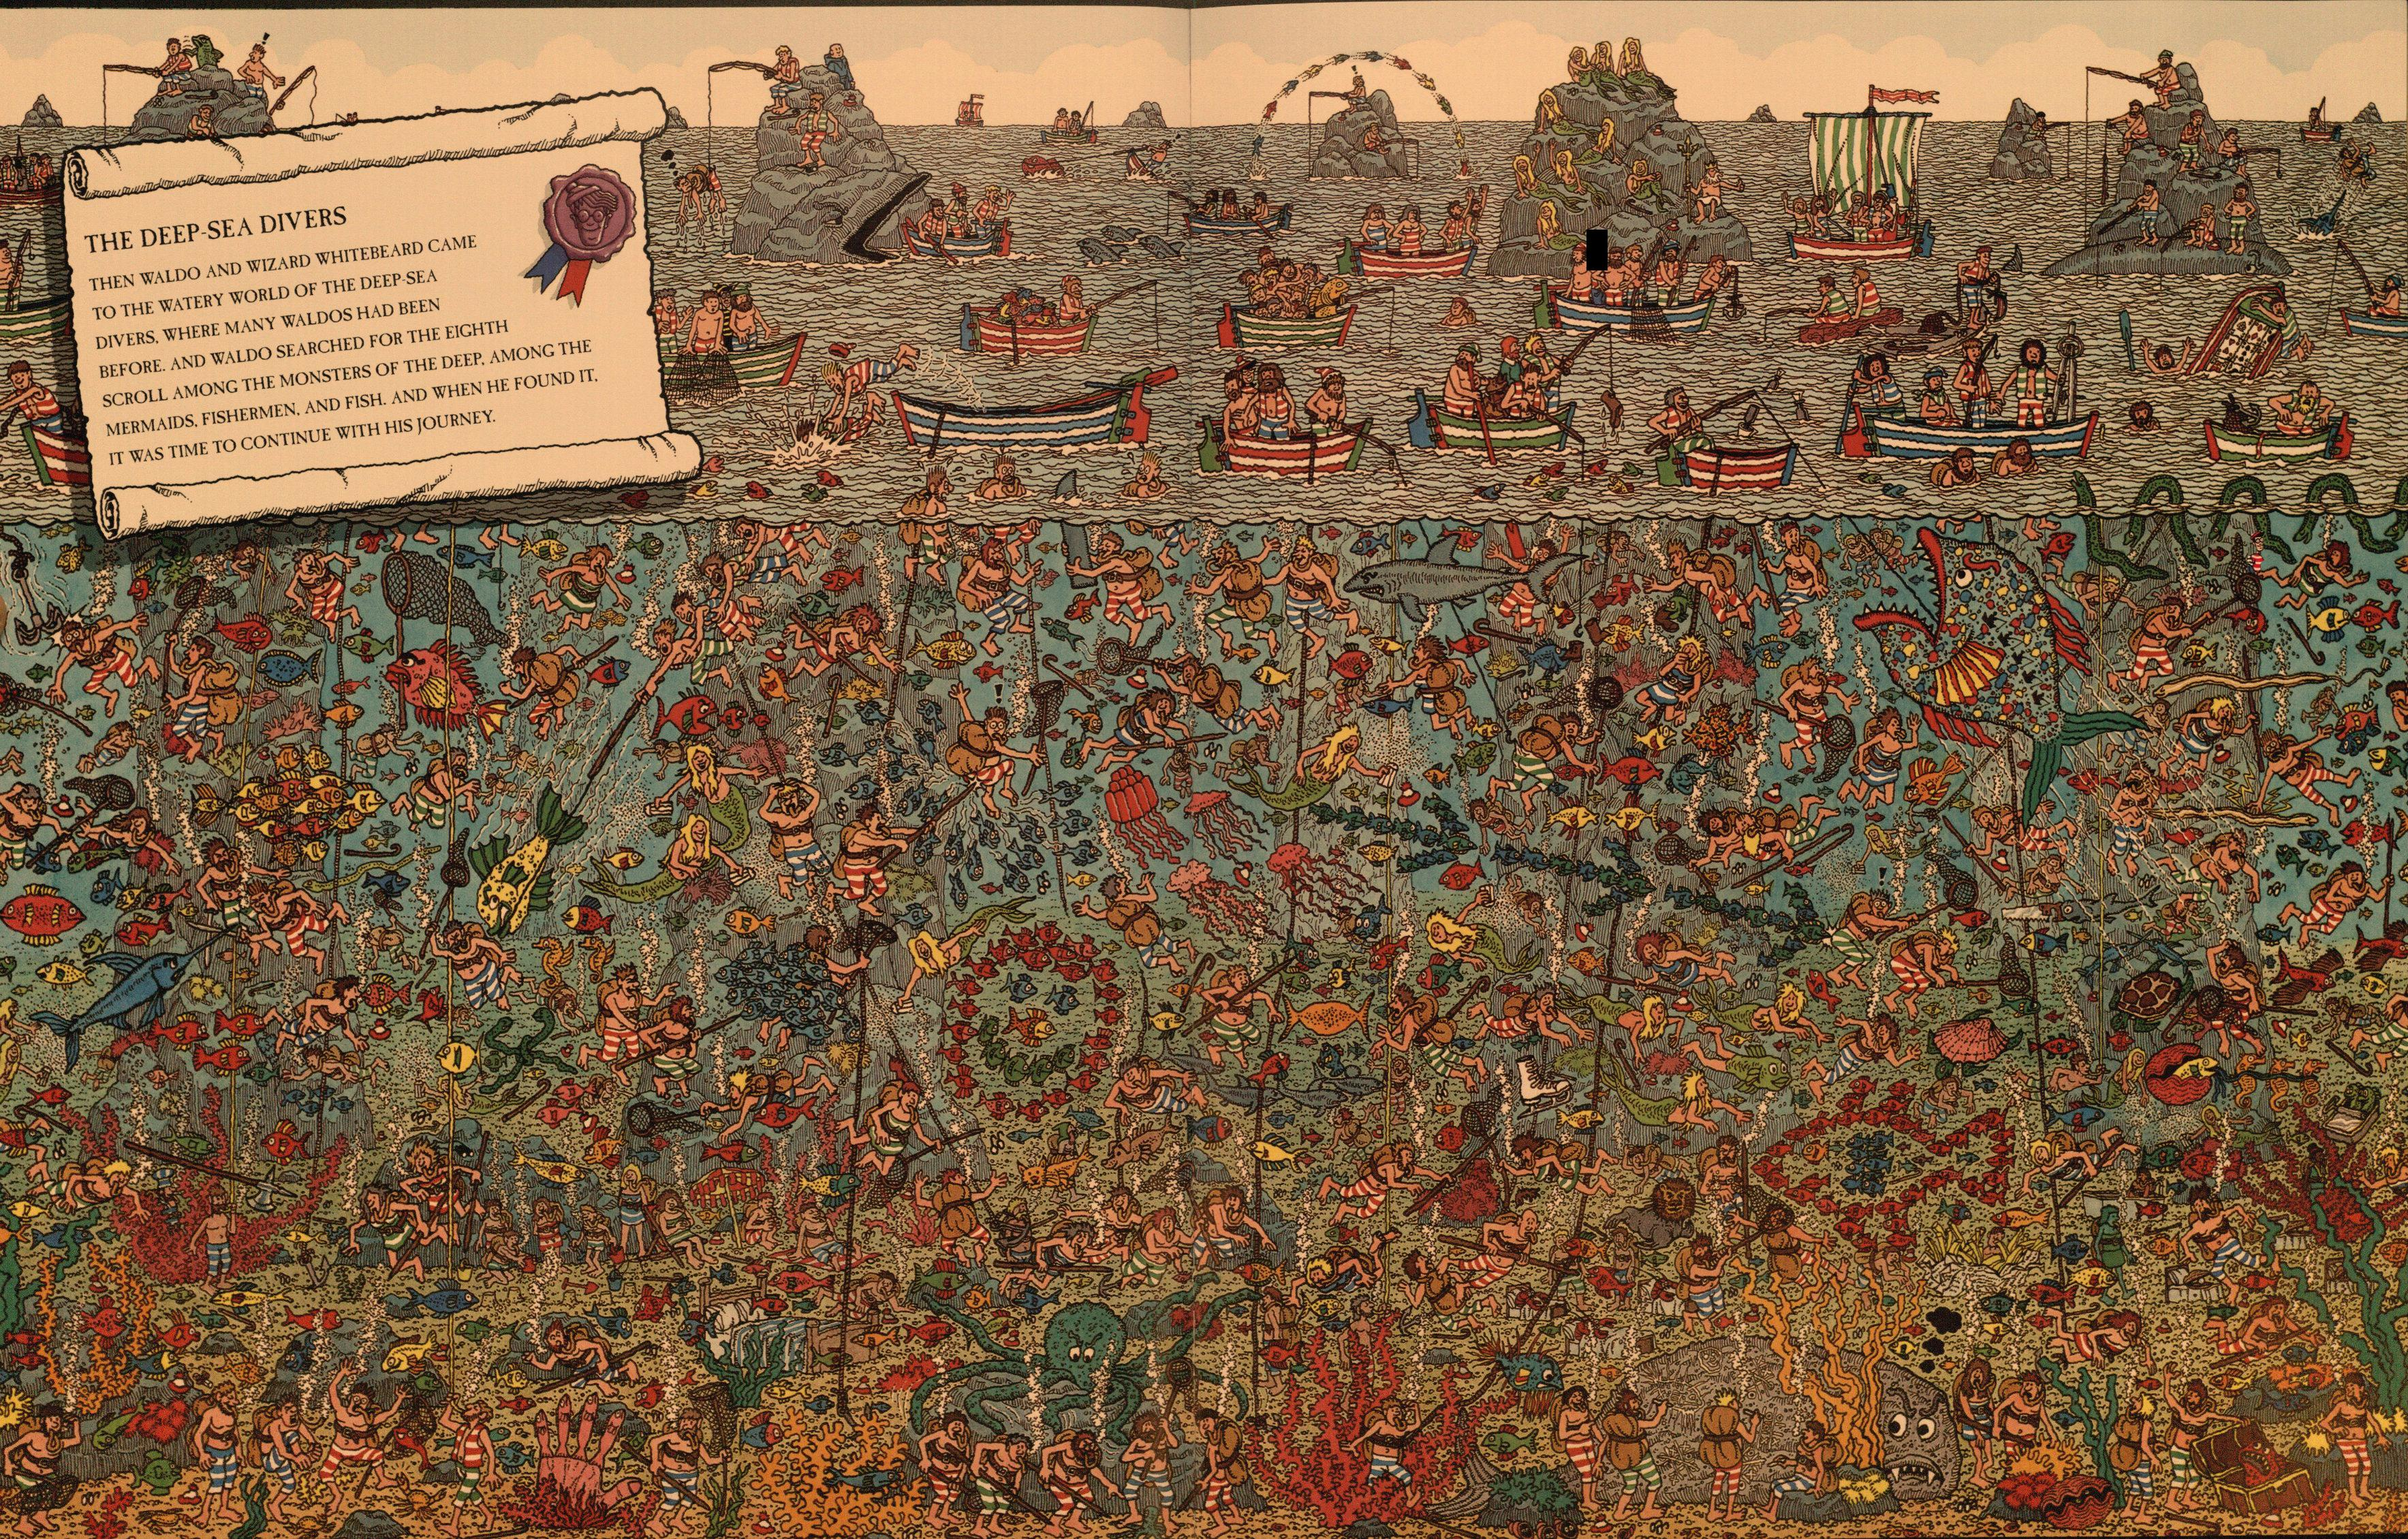waldos: (2247, 532, 2268, 572)
